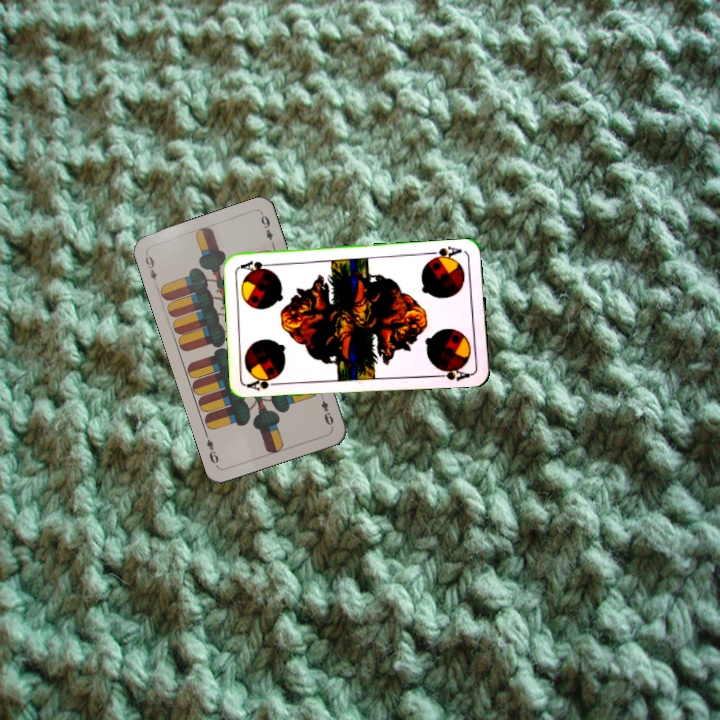E9: (316, 390, 336, 429), (141, 249, 160, 289)
SA: (244, 373, 284, 393), (426, 242, 464, 263)
